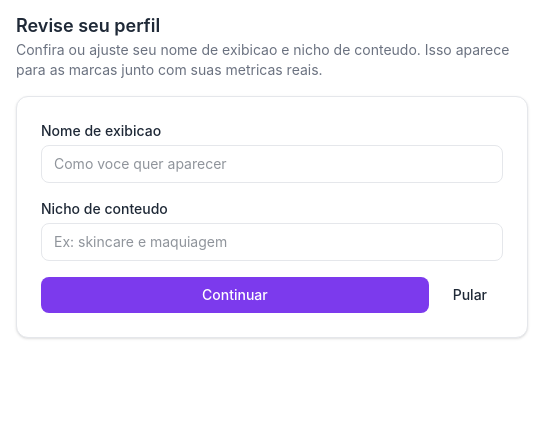
Test case: OnboardingReviewPage - onboarding step 3 (review/correct surfaced details) › shows a retry-or-skip message when saving her corrections fails
This screenshot has width=545, height=446.
Type "skincare" into the field labelled "Nicho de conteudo". click: coordinates (272, 242)
box: [41,223,503,261]
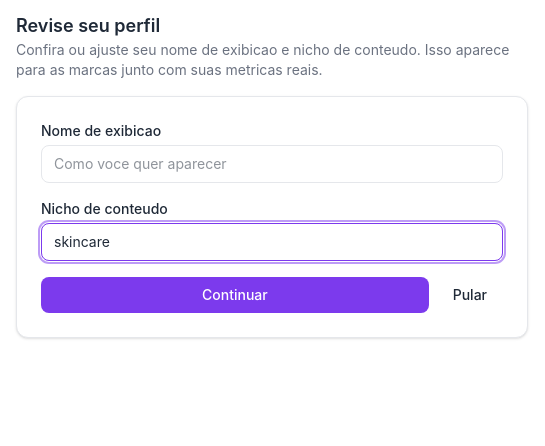
Click the button "Continuar". click: coordinates (235, 295)
box: [41,277,429,313]
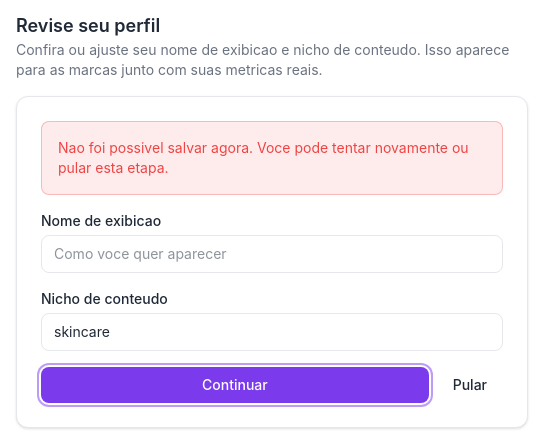
Expected: the text "Nao foi possivel salvar agora. Voce pode tentar novamente ou pular esta etapa." is shown, [41,121,503,195]
